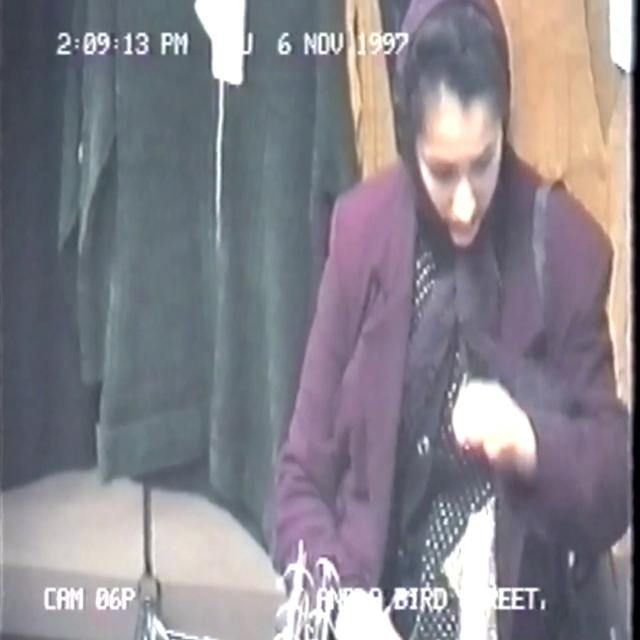normal: (236, 0, 625, 640)
